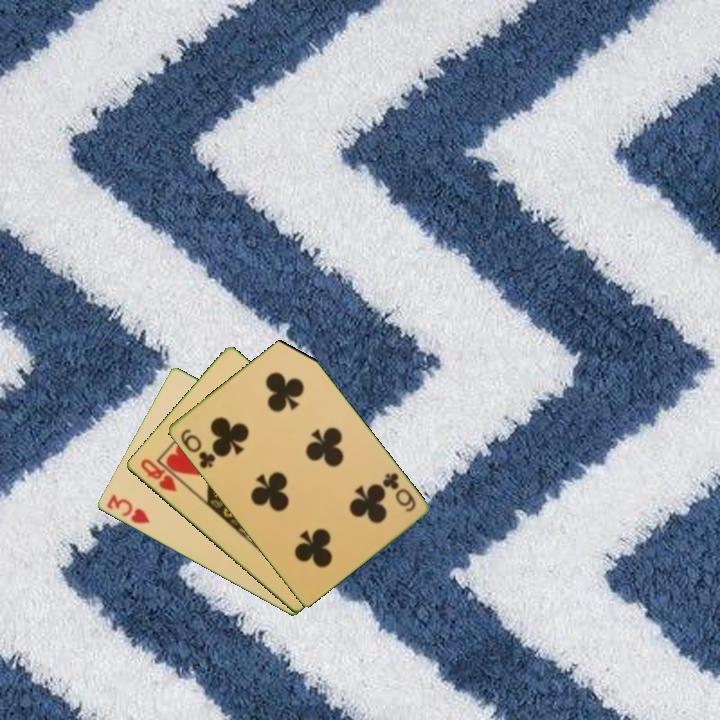3h: (102, 491, 153, 527)
6c: (176, 425, 218, 471), (378, 469, 418, 515)
Qh: (137, 455, 180, 495)
